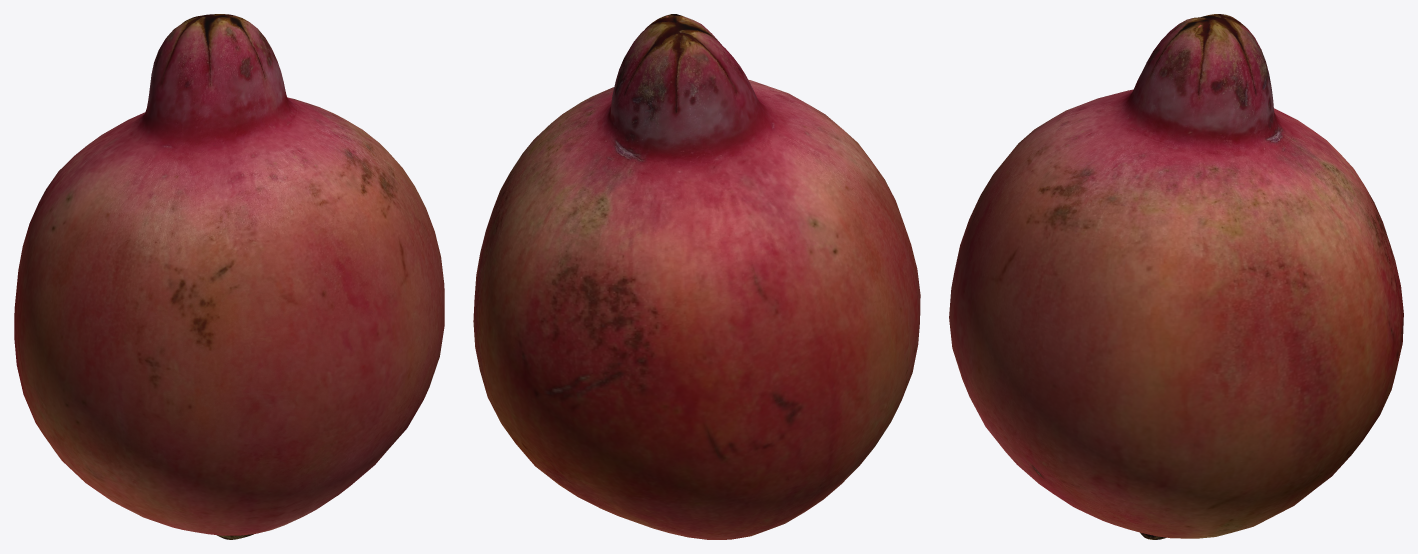
Rendered from pomegranate.fbx.
The picture shows the model from 3 angles, left to right: view 1: azimuth 30°, elevation 25°; view 2: azimuth 150°, elevation 25°; view 3: azimuth 270°, elevation 25°; orthographic projection. The views are drawn at different scales.
Visible parts, largest first — view 1: Pomegranate; view 2: Pomegranate; view 3: Pomegranate.
Part boxes in pixels (left/top/right/bottom): Pomegranate: left=14, top=14, right=444, bottom=539; Pomegranate: left=473, top=14, right=920, bottom=539; Pomegranate: left=949, top=14, right=1403, bottom=539.
Bounding box in the file's own units: 44.12 × 55.7 × 44.15.
Materials: 1 (1 with a texture image).
